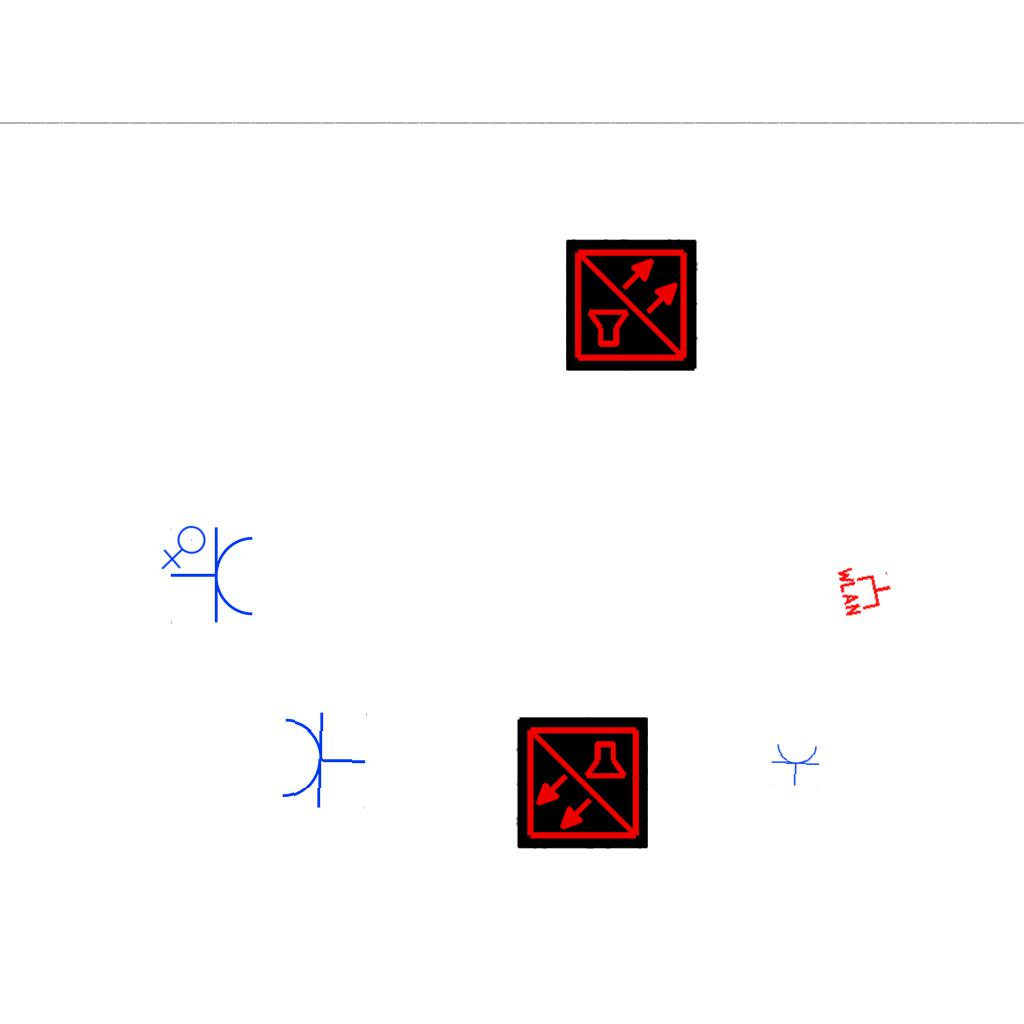Elektroanschluss_allgemein_230V_Geraeteanschlussdose_230V: (161, 525, 210, 572)
OKW_Multisensormelder_(Kombination_optischer_Rauch-Kahlenmonoxid_Waerme-Melder): (566, 239, 698, 371), (516, 717, 648, 849)
Schukosteckdose_einfach: (277, 708, 369, 811), (170, 526, 257, 626), (769, 741, 823, 788)
WLAN: (835, 557, 897, 619)
